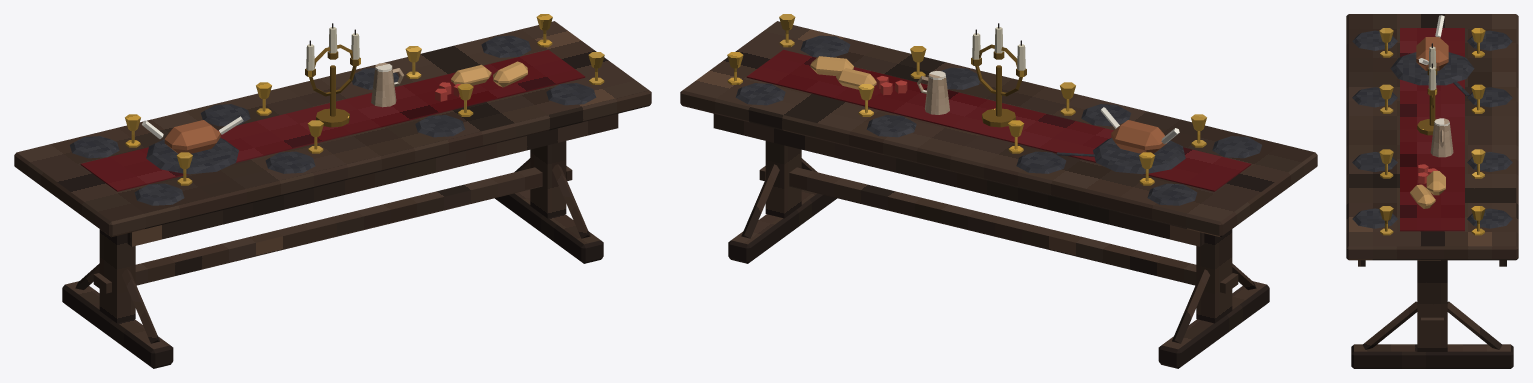
The model's file is feast_table_off.obj.
3 views of the same model, side by side, from view 1: azimuth 30°, elevation 25°; view 2: azimuth 150°, elevation 25°; view 3: azimuth 270°, elevation 25° (orthographic). The views are drawn at different scales.
Parts seen in each view (by area): view 1: feast_table; view 2: feast_table; view 3: feast_table.
Boxes of the visible parts, x1,y1,x2,y2 form: feast_table: (14,14,651,368); feast_table: (680,14,1317,368); feast_table: (1346,14,1518,368).
Bounding box in the file's own units: 2.9 × 1.32 × 0.9.
